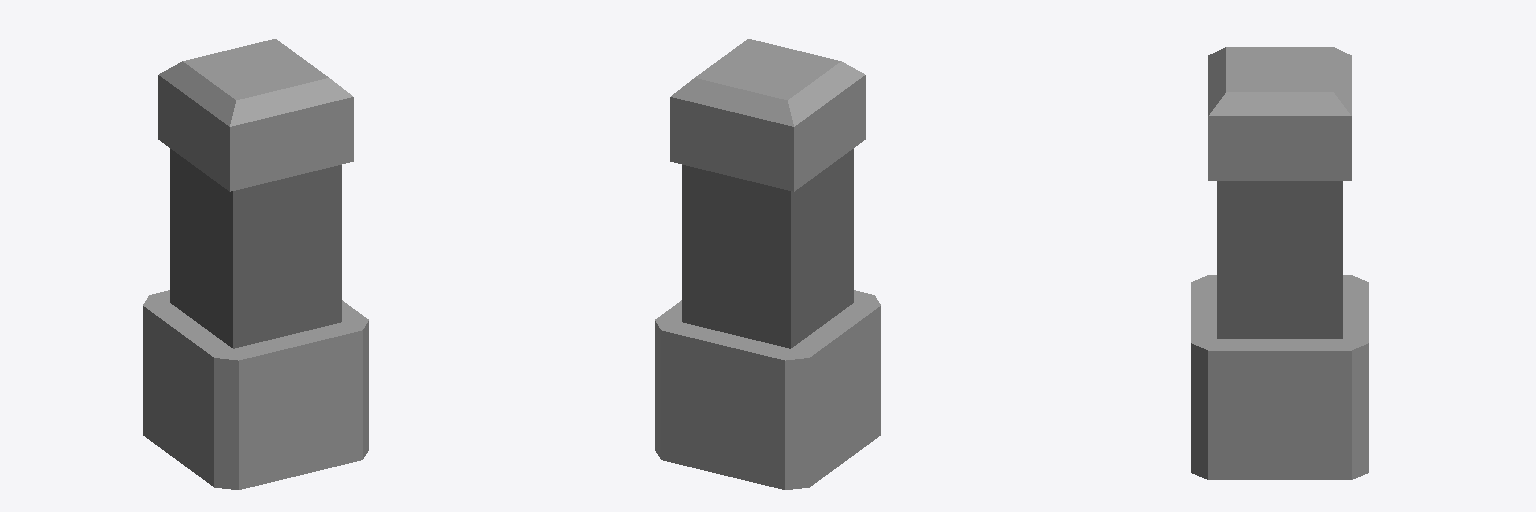
The model's file is pillar.obj.
The picture shows the model from 3 angles: view 1: azimuth 30°, elevation 25°; view 2: azimuth 150°, elevation 25°; view 3: azimuth 270°, elevation 25°; orthographic projection.
Parts seen in each view (by area): view 1: object1.001, object1.003, object1.005; view 2: object1.001, object1.003, object1.005; view 3: object1.001, object1.003, object1.005.
Boxes of the visible parts, x1,y1,x2,y2 form: object1.001: [143, 290, 368, 489]; object1.003: [170, 149, 341, 348]; object1.005: [158, 39, 353, 191]; object1.001: [655, 290, 880, 489]; object1.003: [682, 149, 853, 348]; object1.005: [670, 39, 865, 191]; object1.001: [1191, 275, 1368, 479]; object1.003: [1217, 181, 1342, 338]; object1.005: [1208, 47, 1351, 180].
Size of the model in its own units: 0.5 by 1.15 by 0.5.